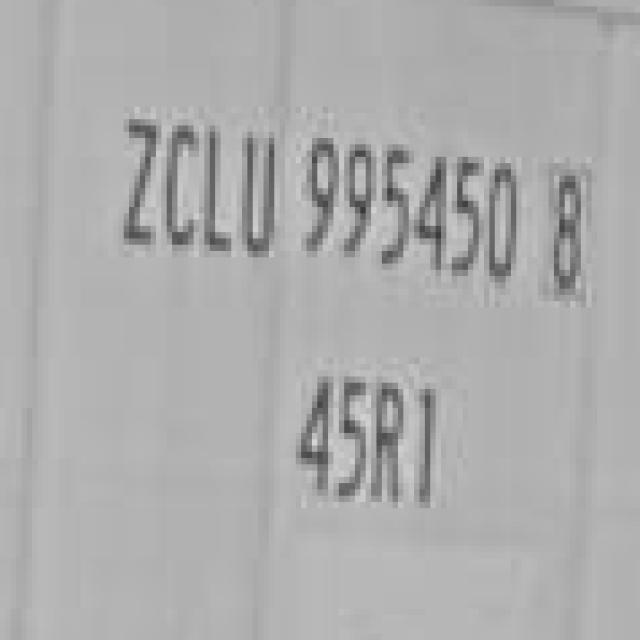dv: (534, 153, 598, 305)
owner: (104, 104, 282, 269)
serial: (297, 119, 525, 302)
size: (280, 359, 454, 522)
